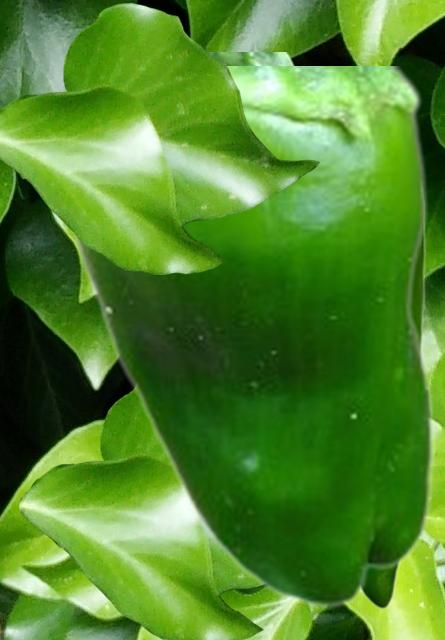green_chili: (63, 66, 433, 608), (363, 239, 425, 607)
